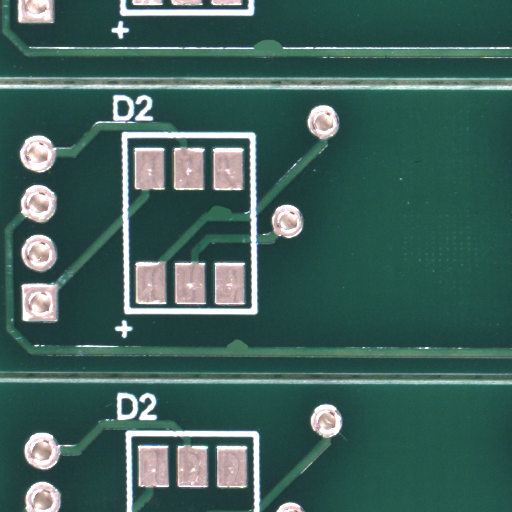Spur: (266, 44, 297, 57), (221, 209, 250, 222), (234, 343, 261, 354)
